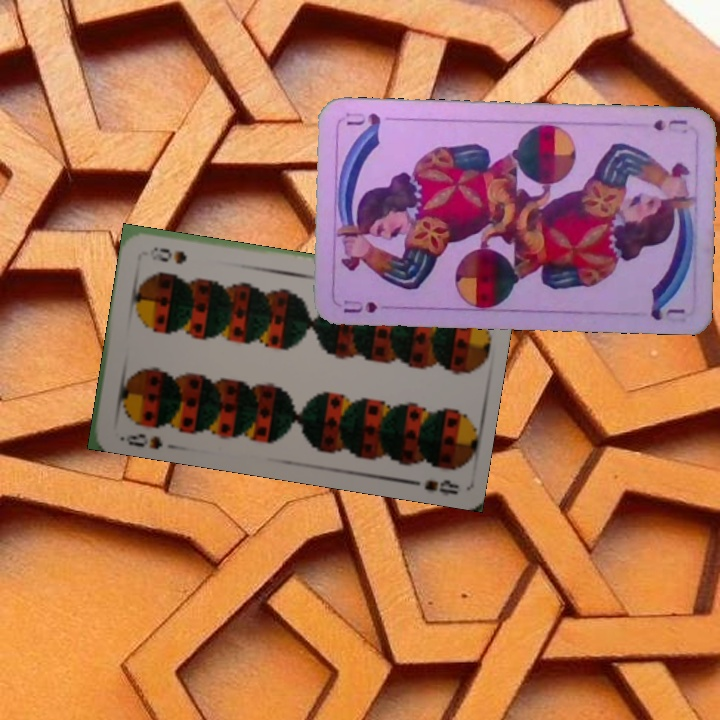S8: (116, 429, 166, 452)
SU: (649, 115, 690, 137), (340, 296, 380, 316)
